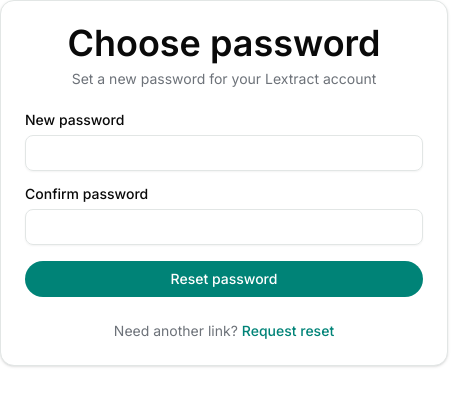
Test: ResetPasswordForm › shows auth provider errors while setting a new password
The width and height of the screenshot is (465, 420).
Type "new-password-123" into the password field labelled "New password" at (224,153), box [25,135,423,171]
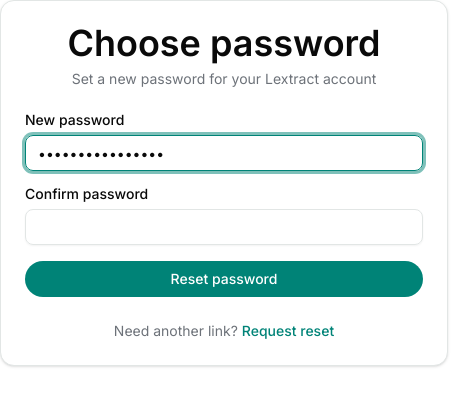
Type "new-password-123" into the password field labelled "Confirm password" at (224,227), box [25,209,423,245]
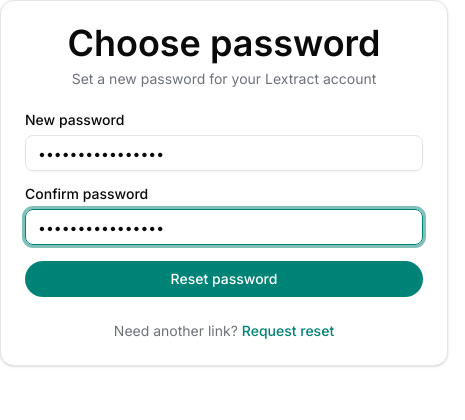
Click the button "Reset password" at (224,279), box [25,261,423,297]
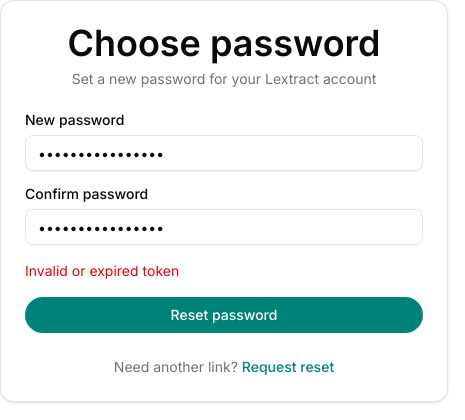
Check: the message reads "Invalid or expired token", box [25,262,179,279]
